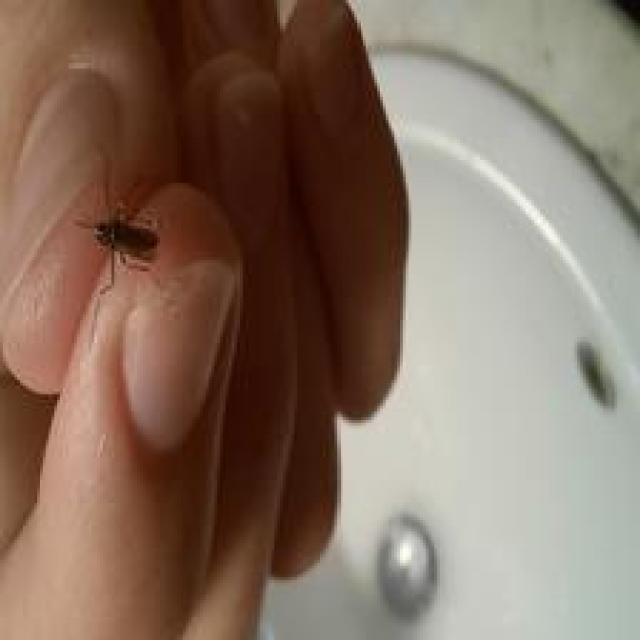Aedes albopictus: (73, 178, 164, 296)
